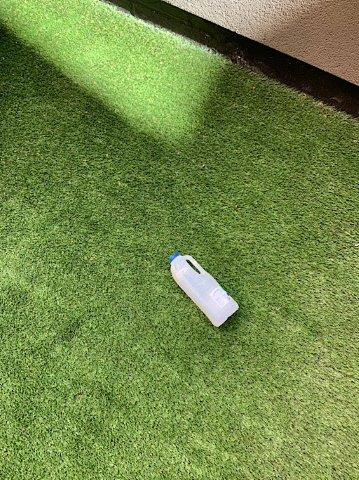botolplastik: (171, 252, 237, 325)
